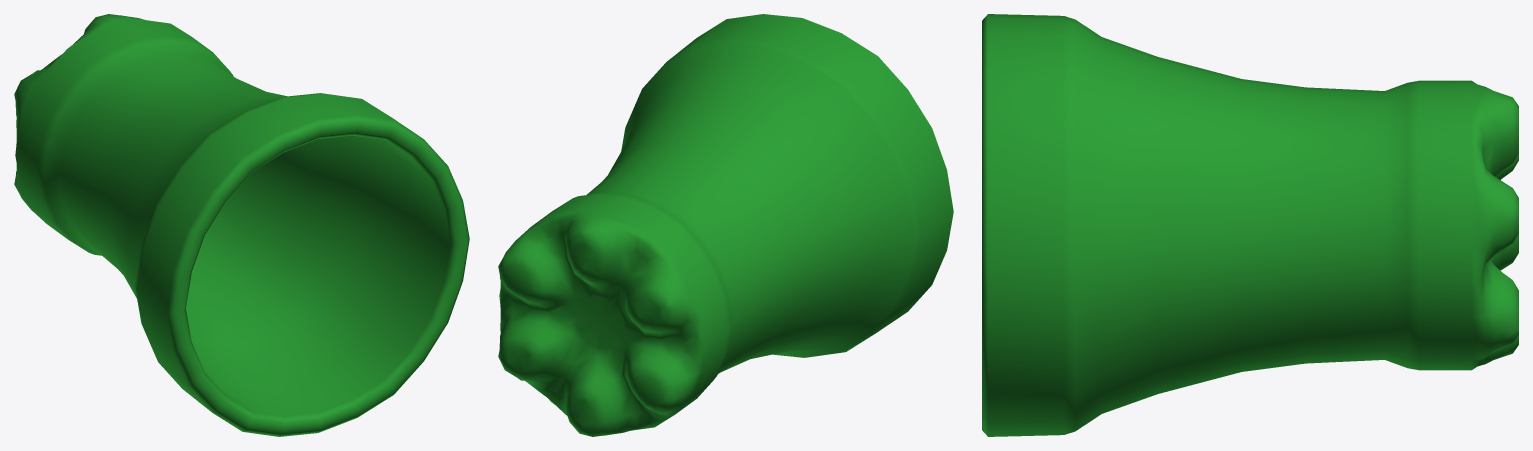
File: MeshCup_3_0_GeomSubset_0.obj
The picture shows the model from 3 angles, left to right: view 1: azimuth 30°, elevation 25°; view 2: azimuth 150°, elevation 25°; view 3: azimuth 270°, elevation 25°; orthographic projection. The views are drawn at different scales.
Parts seen in each view (by area): view 1: MeshCup_3_0_GeomSubset_0; view 2: MeshCup_3_0_GeomSubset_0; view 3: MeshCup_3_0_GeomSubset_0.
Boxes of the visible parts, x1,y1,x2,y2 form: MeshCup_3_0_GeomSubset_0: (14, 14, 469, 436); MeshCup_3_0_GeomSubset_0: (498, 14, 953, 436); MeshCup_3_0_GeomSubset_0: (982, 14, 1518, 436).
Bounding box in the file's own units: 0.112 × 0.1109 × 0.1417.
